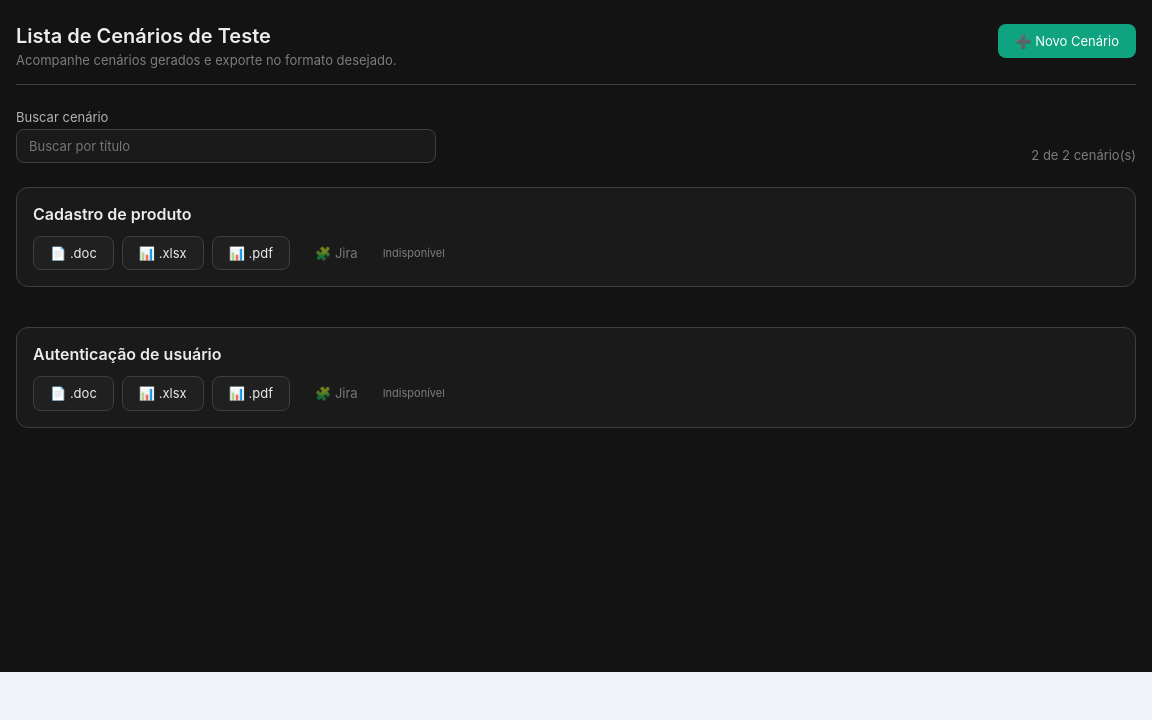
Test: CenarioListComponent (caracterização — Fase 14.4) › busca por título › filtra por título de forma debounced (200ms), ignorando acentuação e caixa
In the field labelled "Buscar cenário": (226, 146) [16,129,436,163], type "autenticacao"
Wait 200 ms
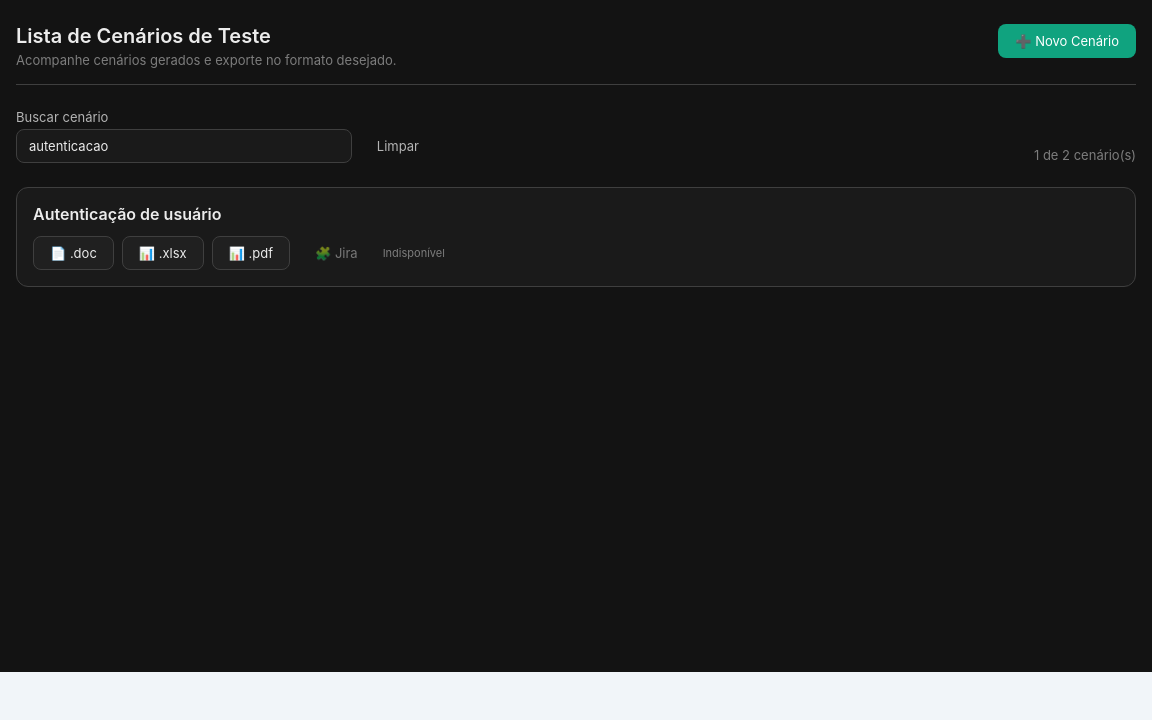
Expected: the text "Autenticação de usuário" is shown, [33,204,222,224]
Expected: the number of elements with class "cenario-card" is 1, [16,187,1136,287]
